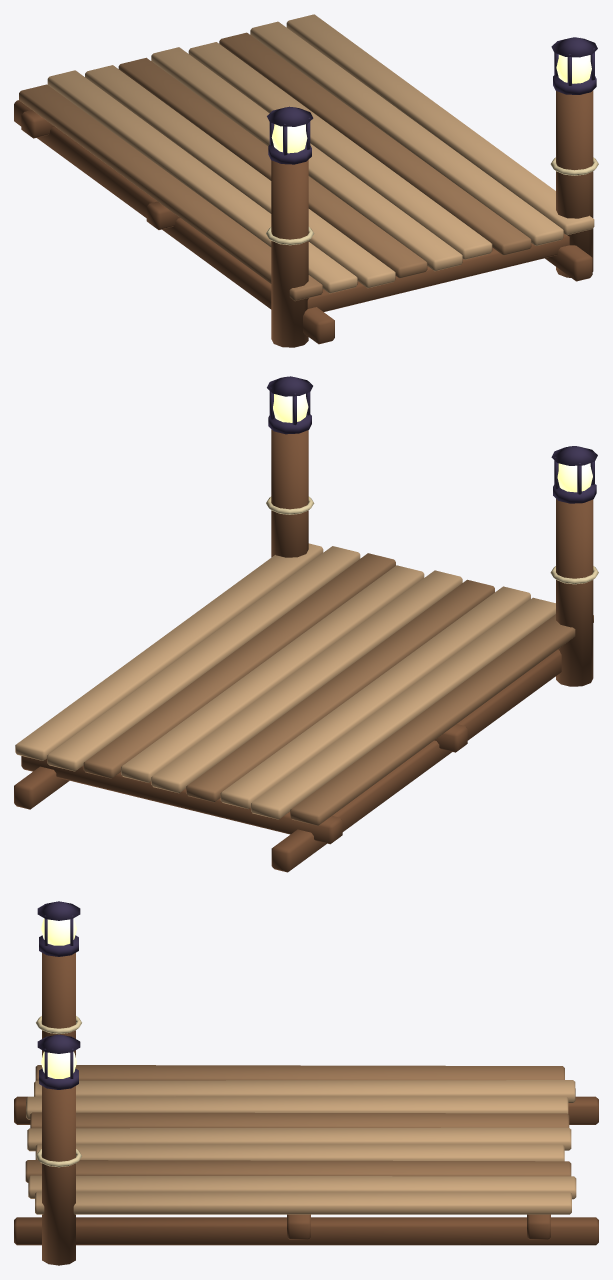
The model's file is dock.glb.
3 renders of one model, top to bottom at view 1: azimuth 30°, elevation 25°; view 2: azimuth 150°, elevation 25°; view 3: azimuth 270°, elevation 25°, orthographic. The views are drawn at different scales.
Parts seen in each view (by area): view 1: dock:mesh; view 2: dock:mesh; view 3: dock:mesh.
Part boxes in pixels (x1=…): dock:mesh: x1=14, y1=14, x2=598, y2=347; dock:mesh: x1=14, y1=376, x2=598, y2=872; dock:mesh: x1=14, y1=901, x2=598, y2=1265.
Bounding box in the file's own units: 2.41 × 1.63 × 3.9.
